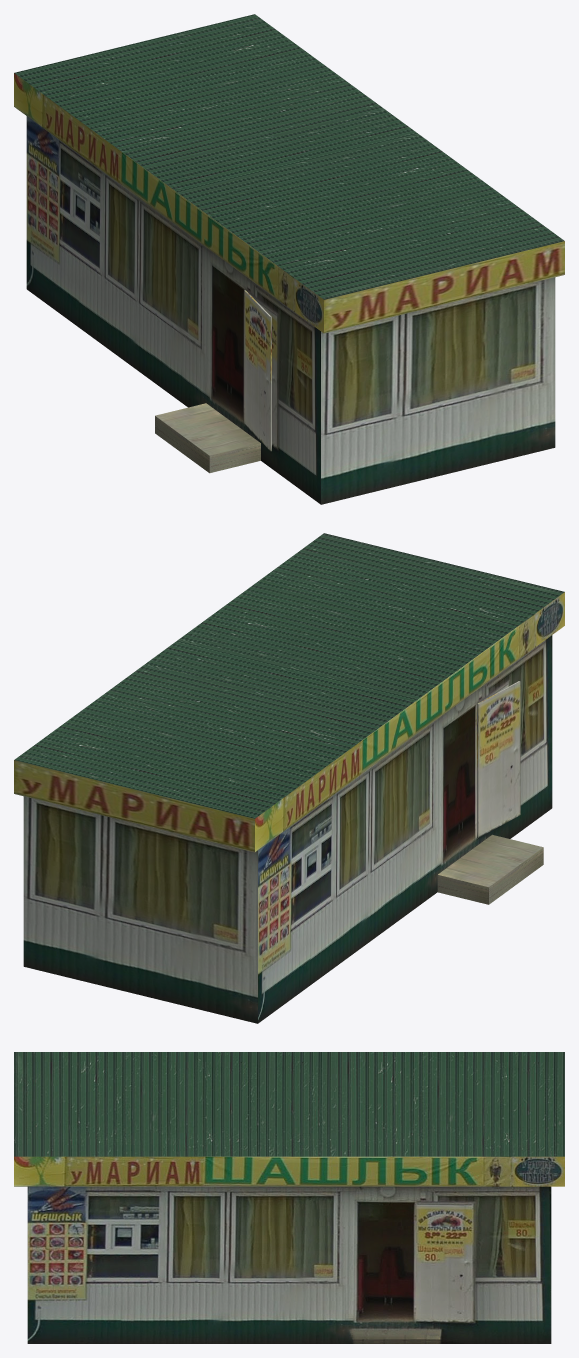
The model's file is r402_omsk_magazin2.FBX.
3 views of the same model, one above another, from view 1: azimuth 30°, elevation 25°; view 2: azimuth 150°, elevation 25°; view 3: azimuth 270°, elevation 25° (orthographic). The views are drawn at different scales.
Parts seen in each view (by area): view 1: r402_omsk_magazin2; view 2: r402_omsk_magazin2; view 3: r402_omsk_magazin2.
Part boxes in pixels (bbox=[...]): r402_omsk_magazin2: bbox=[14, 14, 564, 504]; r402_omsk_magazin2: bbox=[14, 533, 564, 1023]; r402_omsk_magazin2: bbox=[14, 1052, 564, 1343].
Bounding box in the file's own units: 416 × 777 × 293.
